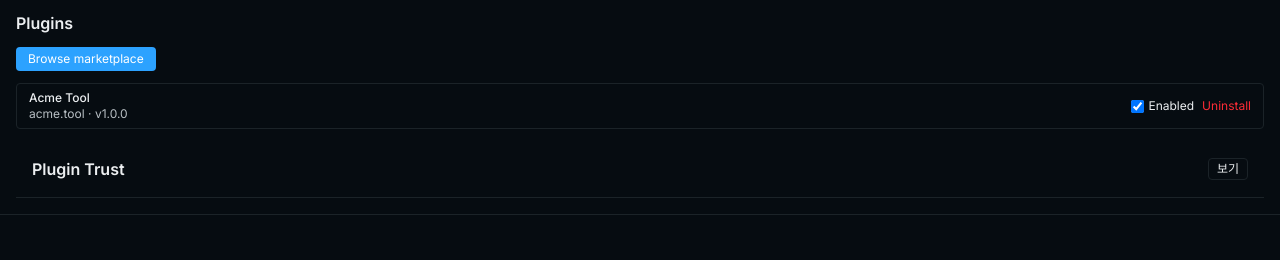
Test: SettingsPlugins › surfaces an error when plugin_uninstall rejects
Check: the text "Acme Tool" is shown, box [29,90,90,105]
What coordinates should you click on to do the following:
click the button "Uninstall"
I would click on:
 (1227, 106)
Its box is [1202,98,1251,114].
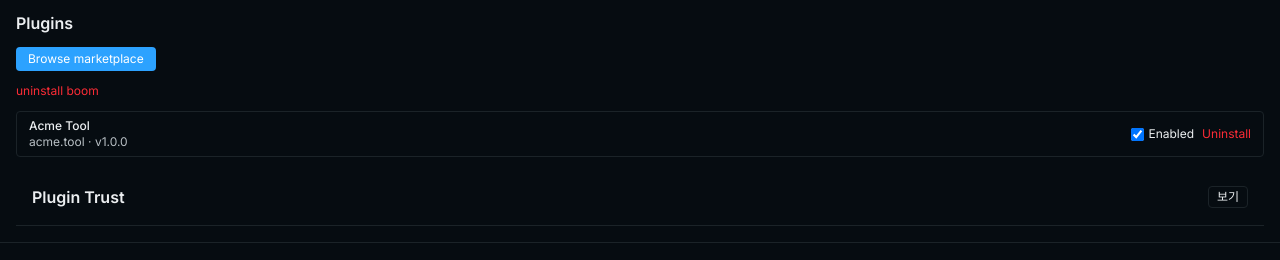
Check: the message reads "uninstall boom", box [16,83,99,98]
